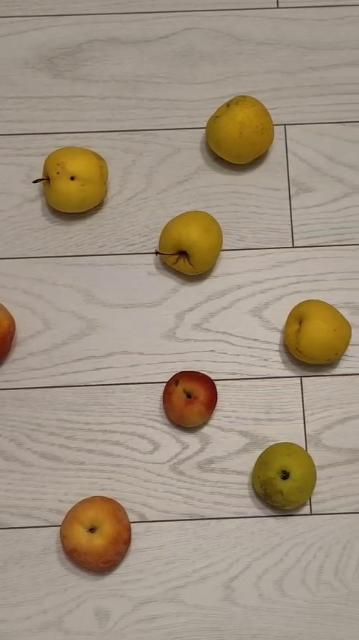apple_green: (205, 94, 274, 164), (35, 147, 108, 212), (251, 441, 317, 510), (283, 300, 351, 364), (157, 210, 223, 274)
apple_red: (59, 496, 132, 571), (163, 371, 218, 427), (0, 300, 16, 368)
